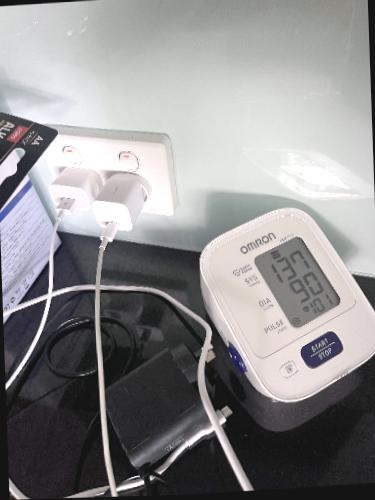bpm: (248, 228, 344, 333)
